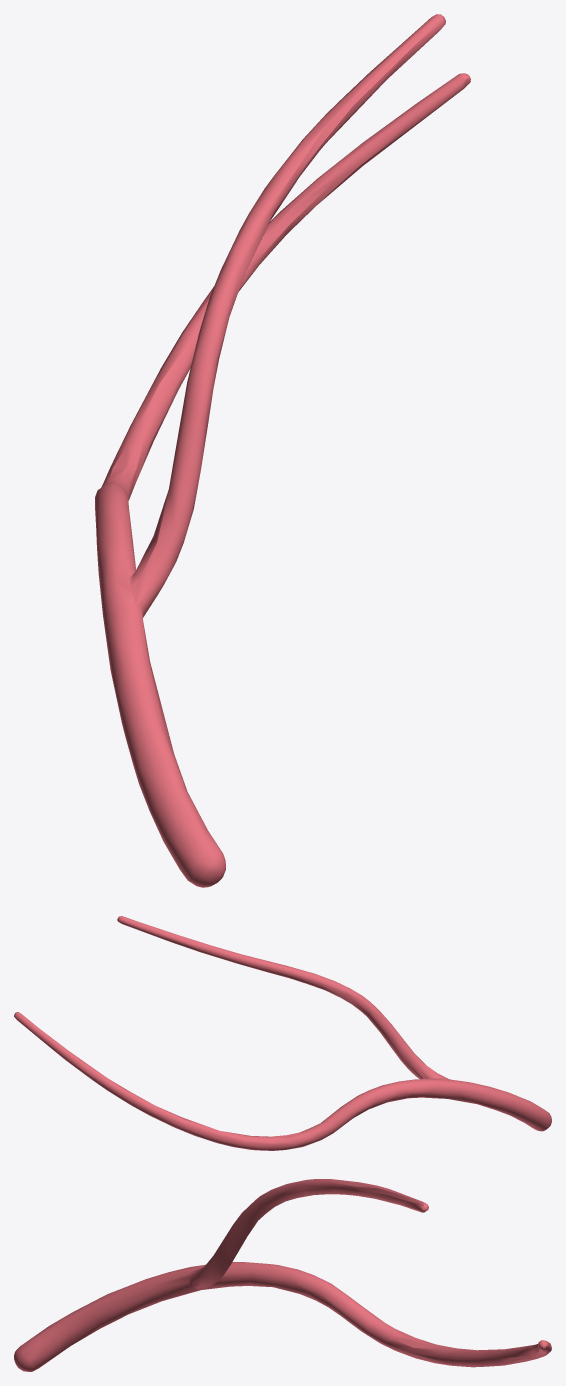
The model's file is fma50476_fj5047.glb.
The picture shows the model from 3 angles, top to bottom: view 1: azimuth 30°, elevation 25°; view 2: azimuth 150°, elevation 25°; view 3: azimuth 270°, elevation 25°; orthographic projection. The views are drawn at different scales.
Parts seen in each view (by area): view 1: FMA50476_FJ5047; view 2: FMA50476_FJ5047; view 3: FMA50476_FJ5047.
Part boxes in pixels (bbox=[...]): FMA50476_FJ5047: bbox=[95, 14, 470, 887]; FMA50476_FJ5047: bbox=[14, 916, 551, 1150]; FMA50476_FJ5047: bbox=[14, 1179, 551, 1371].
Size of the model in its own units: 0.0238 by 0.0173 by 0.0248.
